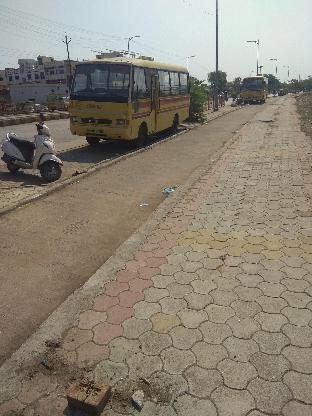bus: (68, 50, 189, 148), (241, 76, 269, 104)
